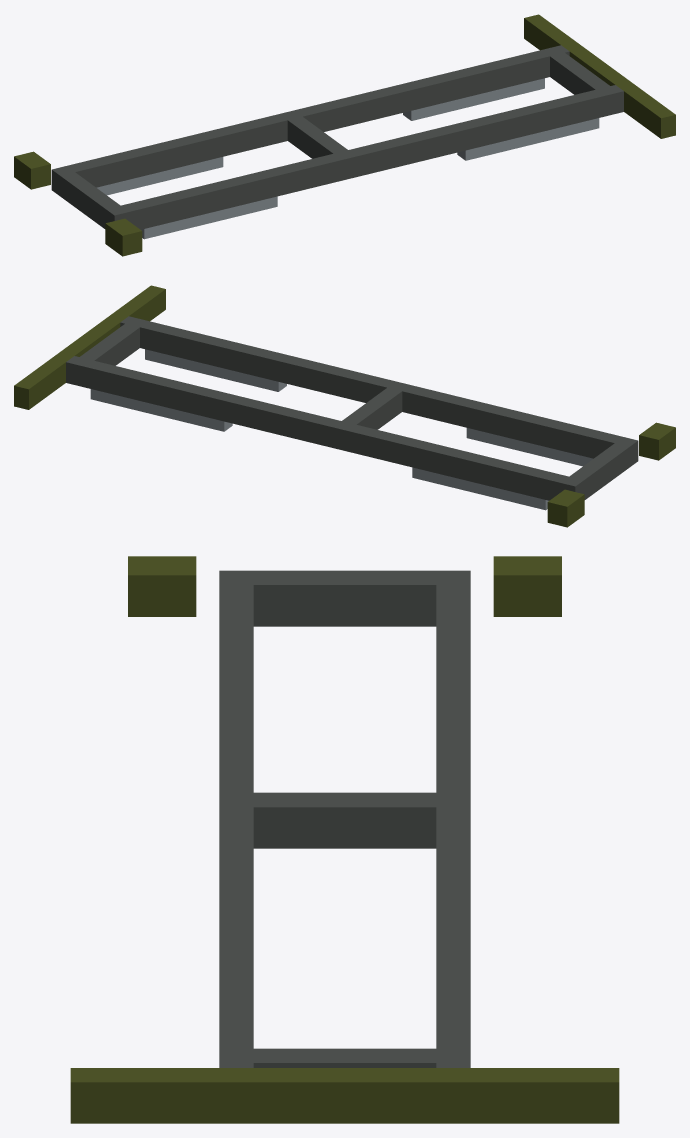
File: army_jeep_frame.glb
The picture shows the model from 3 angles, top to bottom: view 1: azimuth 30°, elevation 25°; view 2: azimuth 150°, elevation 25°; view 3: azimuth 270°, elevation 25°; orthographic projection. The views are drawn at different scales.
Parts seen in each view (by area): view 1: body:compound; view 2: body:compound; view 3: body:compound.
Boxes of the visible parts, bbox=[...] form: body:compound: bbox=[14, 14, 675, 256]; body:compound: bbox=[14, 285, 675, 527]; body:compound: bbox=[70, 556, 619, 1123].
Bounding box in the file's own units: 3.41 × 0.1875 × 1.5.
